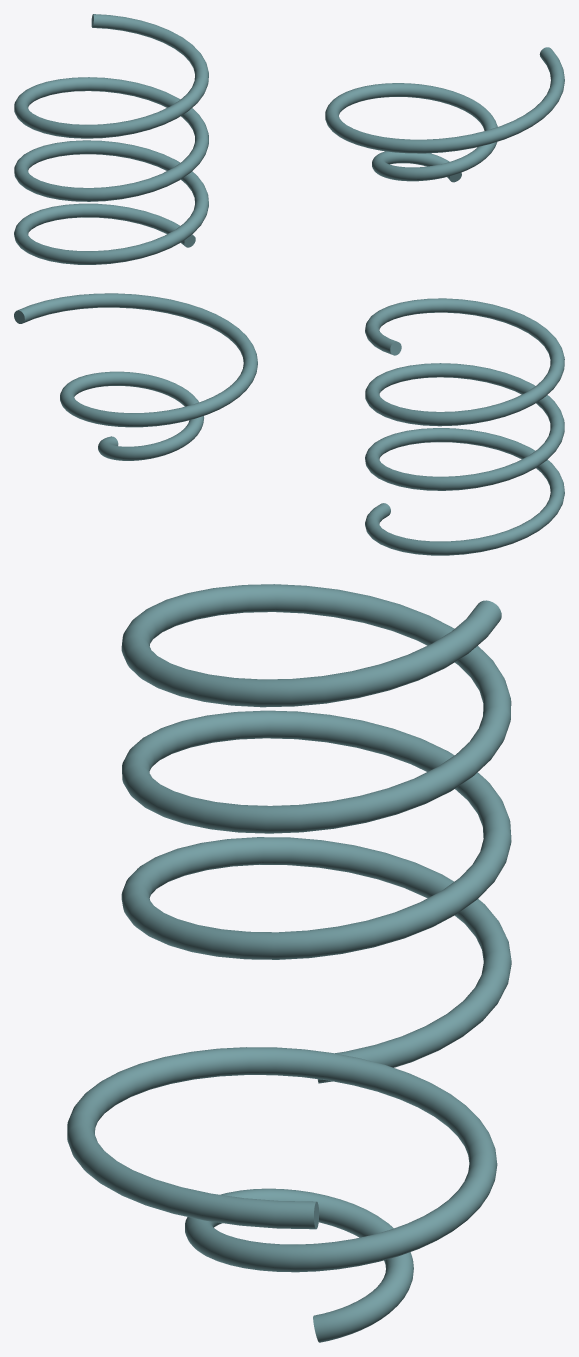
File: paths_coils.glb
The picture shows the model from 3 angles, top to bottom: view 1: azimuth 30°, elevation 25°; view 2: azimuth 150°, elevation 25°; view 3: azimuth 270°, elevation 25°; orthographic projection. The views are drawn at different scales.
Parts seen in each view (by area): view 1: helix; view 2: helix; view 3: helix.
Boxes of the visible parts, <box> form: helix: <box>14,14,564,264</box>; helix: <box>14,293,564,555</box>; helix: <box>67,584,511,1342</box>.
Size of the model in its own units: 0.087 by 0.034 by 0.0319.
